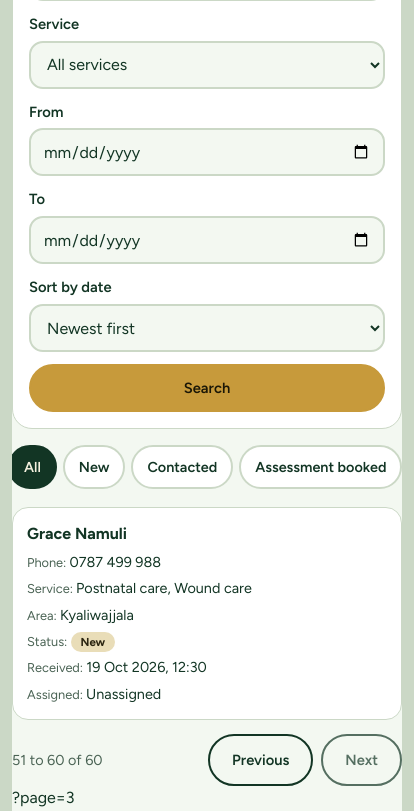
EnquiriesPage › sets the status from a tab and goes back to page 1
(page scrolled)
Click the tab "Assessment booked": (321, 467) [239,445,402,489]
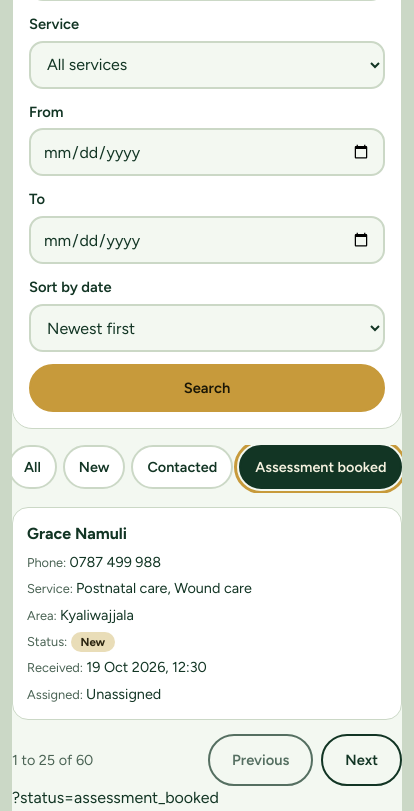
Now the text with test id "search" reads "?status=assessment_booked", box [12,788,219,807]
